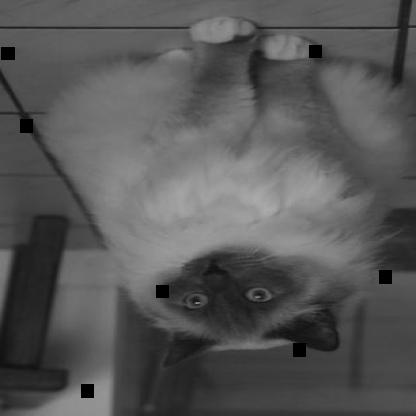cat: (42, 17, 408, 368)
